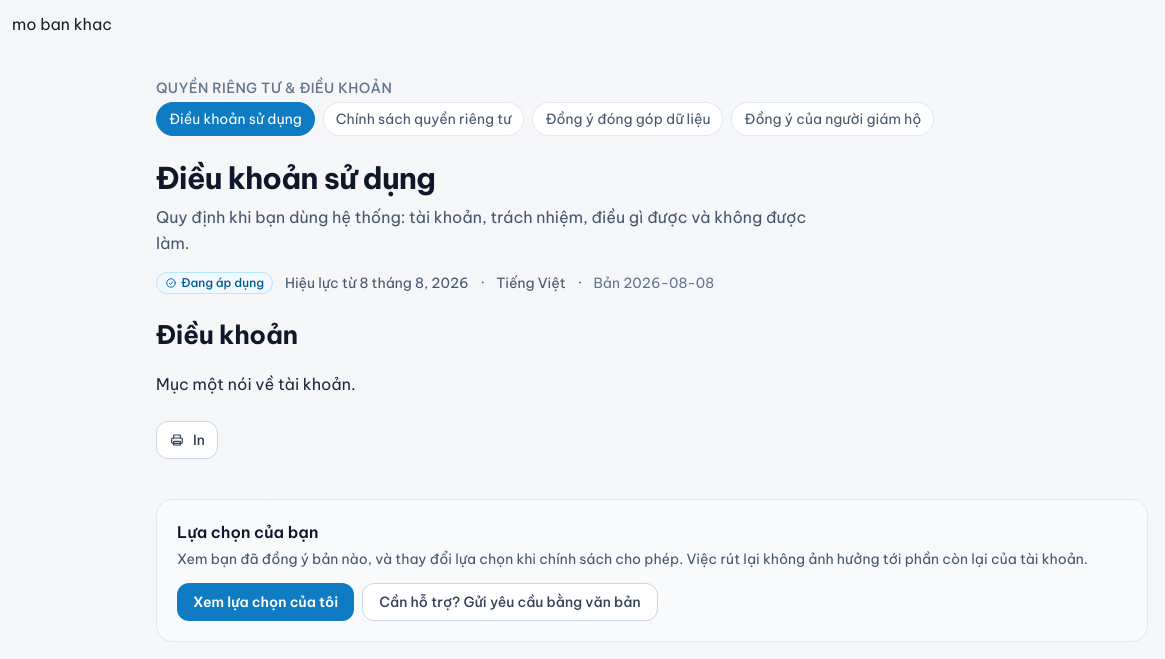
Test case: LegalDocumentPage › đổi sang bản lỗi thì KHÔNG còn thân của bản trước dưới tiêu đề mới — LEG-03
expect the text "Mục một nói về tài khoản." is shown: met, box [156, 374, 356, 394]
What coordinates should you click on to do the following:
click the link "mo ban khac"
I would click on:
 (62, 24)
Its box is [12, 14, 112, 34].
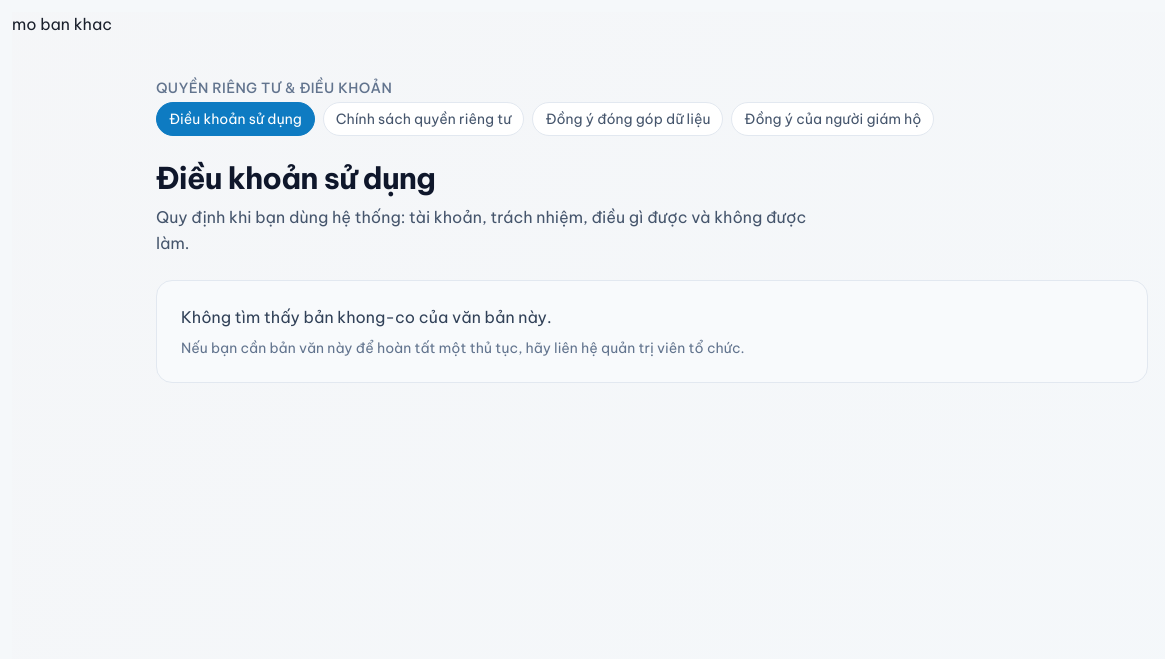
expect the text "Không tìm thấy bản khong-co của văn bản này." is shown: met, box [181, 307, 552, 327]
expect the text "Mục một nói về tài khoản" is gone: met
